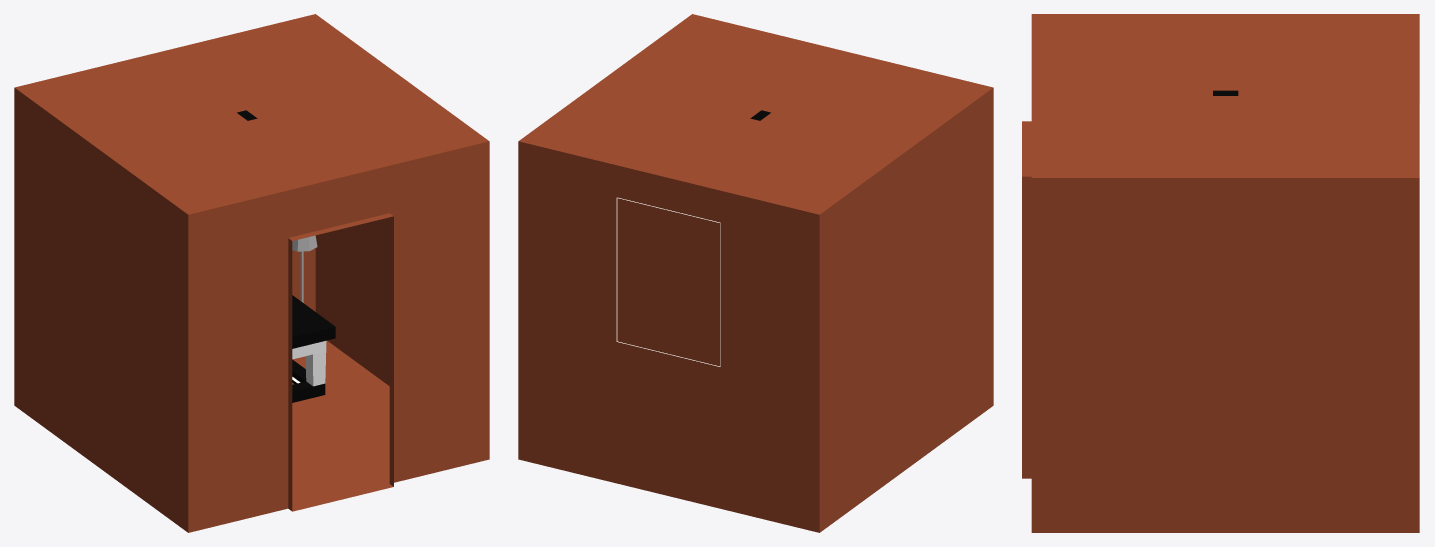
Rendered from room_6.glb.
The picture shows the model from 3 angles, left to right: view 1: azimuth 30°, elevation 25°; view 2: azimuth 150°, elevation 25°; view 3: azimuth 270°, elevation 25°; orthographic projection. The views are drawn at different scales.
Parts seen in each view (by area): view 1: komnata_6; view 2: komnata_6; view 3: komnata_6.
Part boxes in pixels (x1,y1,x2,y2): komnata_6: (14, 14, 489, 532); komnata_6: (518, 14, 993, 532); komnata_6: (1022, 14, 1420, 532).
Size of what is drawn, in the model's own units: 2.47 by 2.49 by 2.54.
